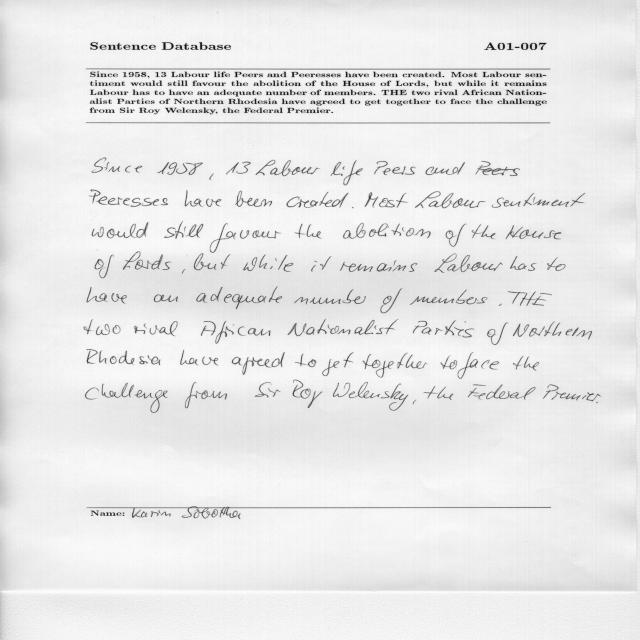word: (86, 383, 168, 413), (333, 382, 408, 411), (210, 223, 281, 253), (196, 287, 282, 309), (288, 319, 399, 336), (363, 353, 428, 378), (201, 321, 270, 344), (513, 322, 592, 340), (343, 223, 431, 239), (492, 193, 585, 208), (89, 190, 168, 207), (434, 254, 503, 273), (232, 352, 285, 375), (415, 192, 486, 209), (87, 350, 160, 366), (410, 290, 487, 305), (458, 352, 499, 379), (185, 382, 227, 408), (294, 290, 366, 305), (255, 160, 320, 176), (413, 321, 474, 338), (468, 385, 536, 400), (287, 192, 349, 208), (543, 385, 601, 402), (340, 260, 417, 272), (92, 222, 149, 238), (123, 252, 171, 270), (243, 255, 293, 272), (293, 380, 322, 408), (331, 161, 363, 186), (506, 225, 561, 239), (322, 353, 354, 377), (92, 158, 142, 173), (365, 192, 408, 208), (87, 287, 127, 304), (475, 161, 520, 176), (164, 222, 203, 239), (508, 291, 552, 306), (134, 321, 178, 336), (185, 190, 221, 207), (194, 253, 230, 270), (157, 162, 203, 175), (235, 191, 272, 207), (84, 319, 120, 335), (375, 161, 416, 175), (180, 350, 218, 365), (381, 289, 403, 314), (425, 162, 465, 175), (446, 224, 467, 247), (487, 323, 508, 345), (95, 255, 114, 278), (424, 386, 454, 400), (510, 256, 537, 271), (295, 224, 321, 239), (513, 356, 539, 371), (255, 382, 281, 397), (472, 225, 496, 240), (226, 162, 251, 174), (311, 257, 331, 272), (295, 354, 316, 367), (547, 257, 566, 271), (440, 356, 457, 369), (154, 295, 178, 303), (209, 173, 214, 180), (182, 269, 186, 274), (413, 400, 416, 404), (499, 304, 502, 306), (596, 402, 599, 403), (352, 207, 354, 208)
